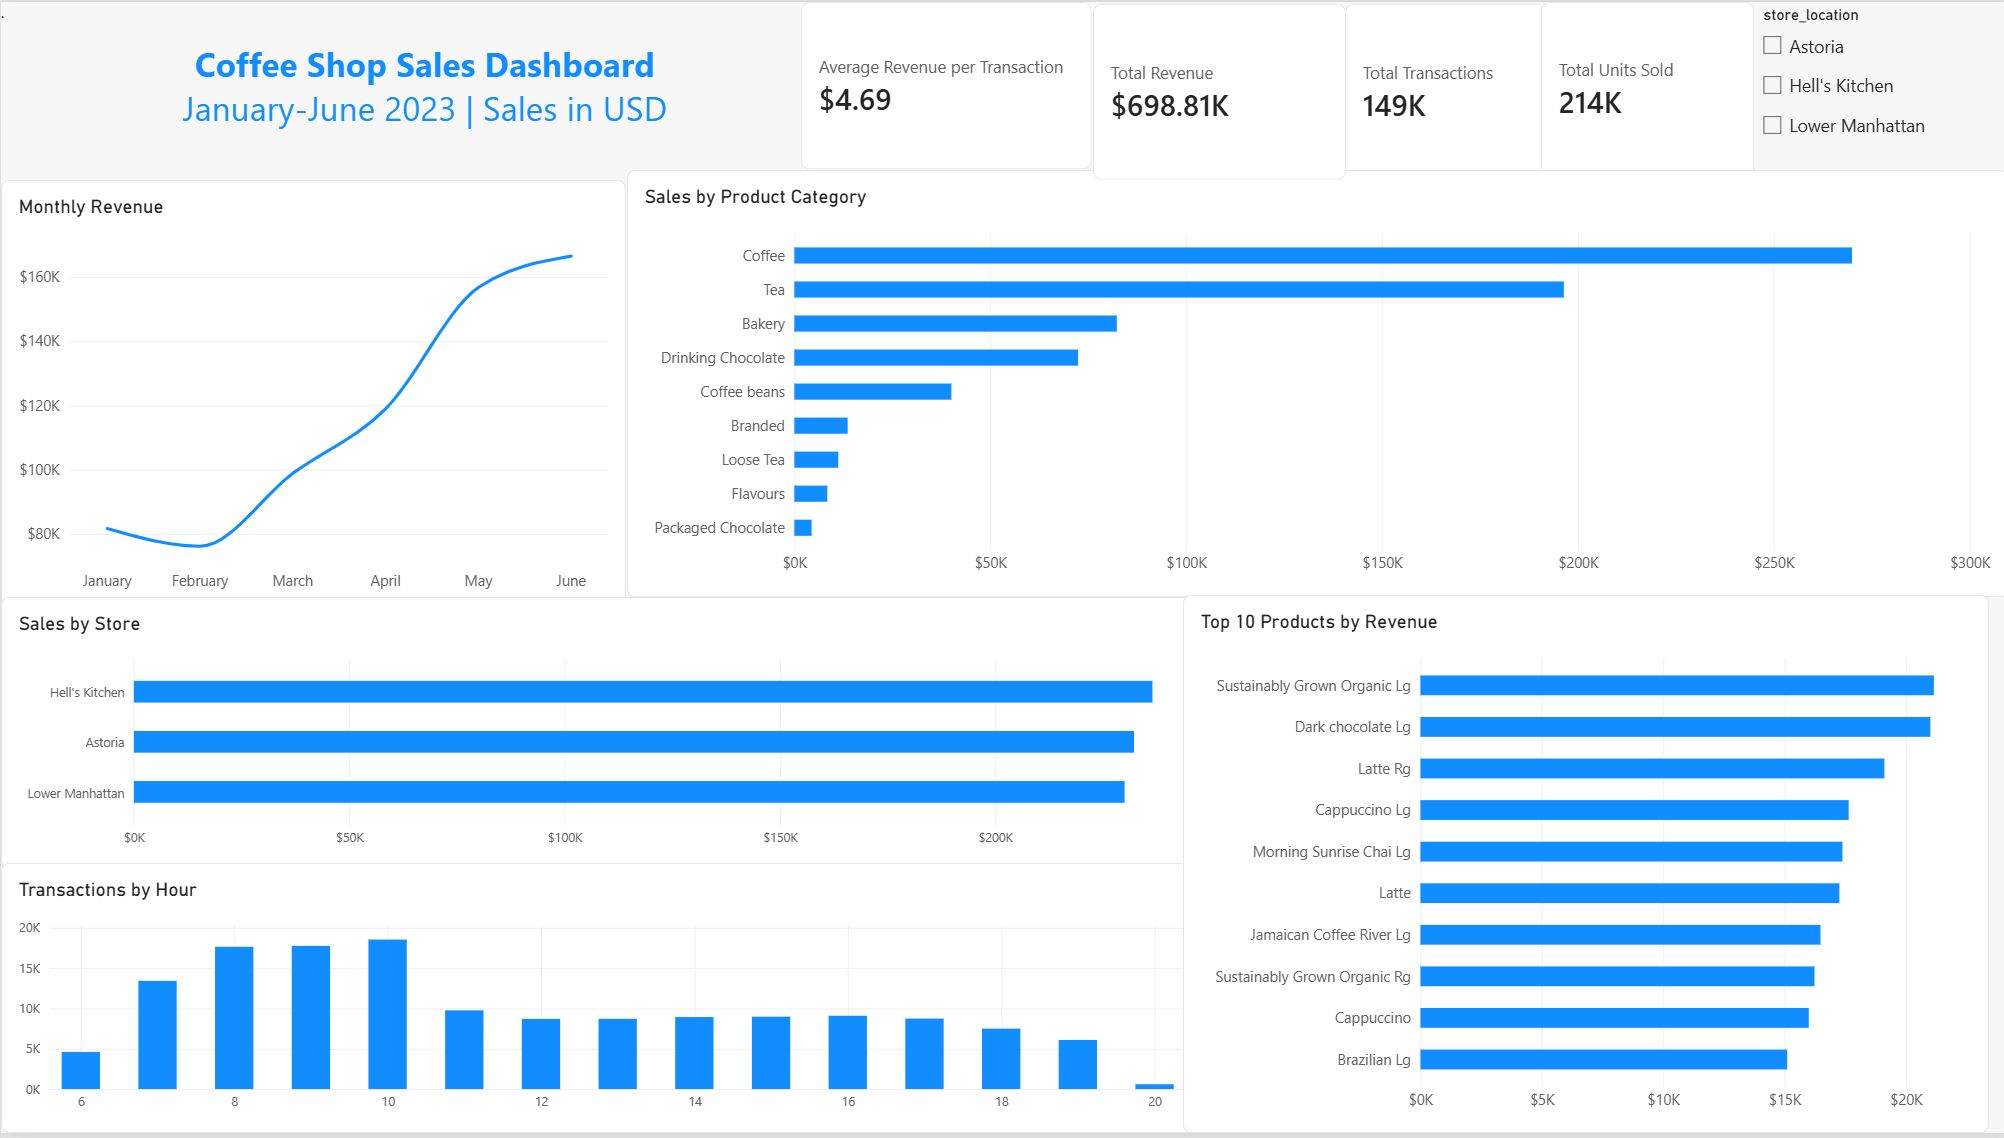

Layout of this report page (visuals, bound fields, positions):
{"tool":"powerbi","page":{"name":"Page 1","canvas":[1920,1080],"ordinal":0},"visuals":[{"type":"cardVisual","fields":{"Data":["Sales.Total Unit Sold"]},"box":[1285.6,1.7,192,168.6],"z":0},{"type":"cardVisual","fields":{"Data":["Sales.Total Unit Sold"]},"box":[1472.5,0,204.6,166.4],"z":1000},{"type":"lineChart","title":"Monthly Revenue","fields":{"Category":["Sales.transaction_date.Variation.Date Hierarchy.Month"],"Y":["Sum(Sales.Revenue)"]},"box":[0,170.2,597.7,414.1],"z":2000},{"type":"clusteredBarChart","title":"Sales by Store ","fields":{"Category":["Sales.store_location"],"Y":["Sum(Sales.Revenue)"]},"box":[0,567.7,1149.3,260.1],"z":3000},{"type":"clusteredBarChart","title":"Sales by Product Category","fields":{"Category":["Sales.product_category"],"Y":["Sum(Sales.Revenue)"]},"box":[599.4,160.3,1320.9,407.6],"z":5000},{"type":"clusteredColumnChart","title":"Transactions by Hour","fields":{"Category":["Sales.Sales Hous"],"Y":["Sales.Total Transaction"]},"box":[0,822.3,1149.3,258.2],"z":6000},{"type":"clusteredBarChart","title":"Top 10 Products by Revenue","fields":{"Category":["Sales.product_detail"],"Y":["Sum(Sales.Revenue)"]},"box":[1130.2,566.1,770.7,514.4],"z":7000},{"type":"textbox","box":[100,100,300,300],"z":8000},{"type":"textbox","box":[0,0,753.5,160.6],"z":9000},{"type":"textbox","box":[0,0,768.8,160.6],"z":10000},{"type":"slicer","fields":{"Values":["Sales.store_location"]},"box":[1677.1,3.8,243,164],"z":12000},{"type":"cardVisual","fields":{"Data":["Sales.Average Revenue per Transaction"]},"box":[764.7,0,278.8,160.3],"z":12001},{"type":"cardVisual","fields":{"Data":["Sum(Sales.Revenue)"]},"box":[1044.1,1.9,242.9,168.3],"z":12002}]}

Visuals, with their boxes in screenshot pixels (x1, y1, x2, y2), scaled from the page's 1920x1080 canvas onto the 2004x1138 screenshot:
cardVisual - Sales.Total Unit Sold: left=1342, top=2, right=1542, bottom=179
cardVisual - Sales.Total Unit Sold: left=1537, top=0, right=1750, bottom=175
"Monthly Revenue" lineChart: left=0, top=179, right=624, bottom=616
"Sales by Store " clusteredBarChart: left=0, top=598, right=1200, bottom=872
"Sales by Product Category" clusteredBarChart: left=626, top=169, right=2003, bottom=598
"Transactions by Hour" clusteredColumnChart: left=0, top=866, right=1200, bottom=1137
"Top 10 Products by Revenue" clusteredBarChart: left=1180, top=597, right=1984, bottom=1137
textbox: left=104, top=105, right=418, bottom=421
textbox: left=0, top=0, right=786, bottom=169
textbox: left=0, top=0, right=802, bottom=169
slicer - Sales.store_location: left=1750, top=4, right=2003, bottom=177
cardVisual - Sales.Average Revenue per Transaction: left=798, top=0, right=1089, bottom=169
cardVisual - Sum(Sales.Revenue): left=1090, top=2, right=1343, bottom=179
